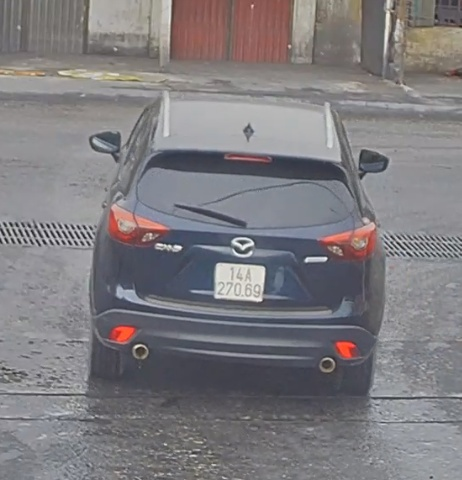vehicle plate: (208, 255, 276, 306)
